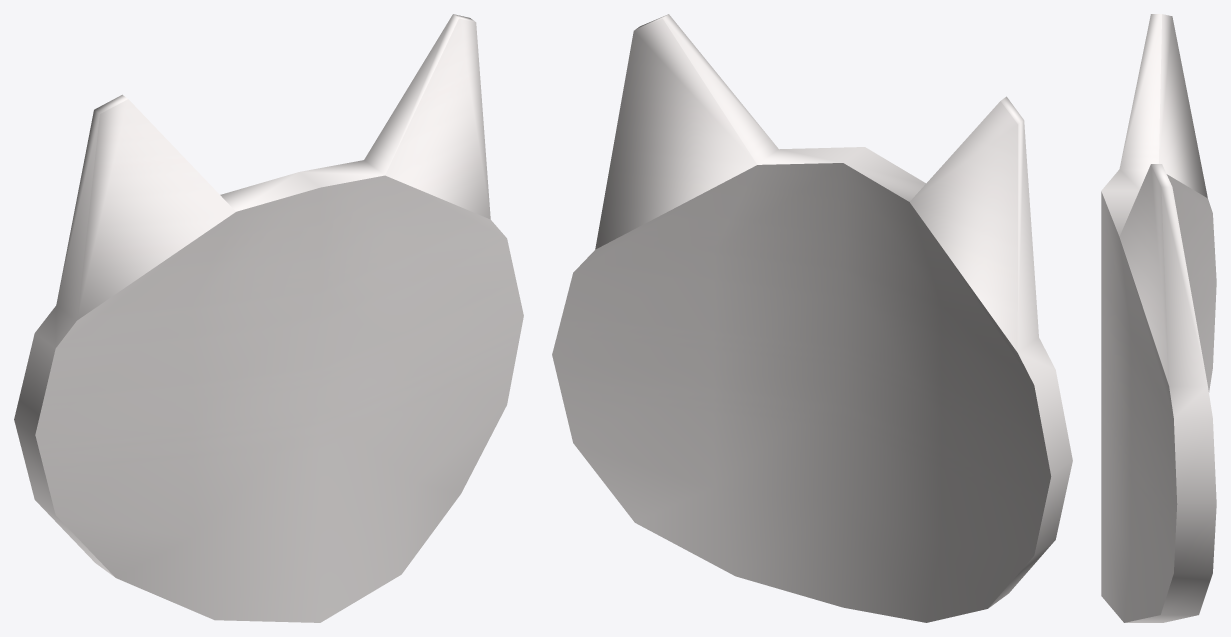
The model's file is mask_04.fbx.
3 views of the same model, side by side, from view 1: azimuth 30°, elevation 25°; view 2: azimuth 150°, elevation 25°; view 3: azimuth 270°, elevation 25° (orthographic). The views are drawn at different scales.
Parts seen in each view (by area): view 1: Mask_04; view 2: Mask_04; view 3: Mask_04.
Part boxes in pixels (x1,y1,x2,y2): Mask_04: (14,14,523,622); Mask_04: (552,14,1072,622); Mask_04: (1101,14,1216,622).
Size of the model in its own units: 121 by 129 by 26.62.
